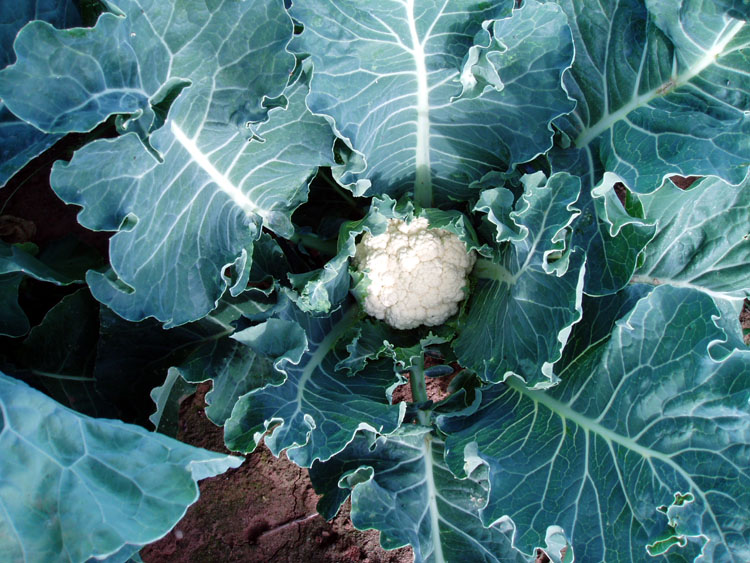cauliflower: (352, 212, 473, 330)
